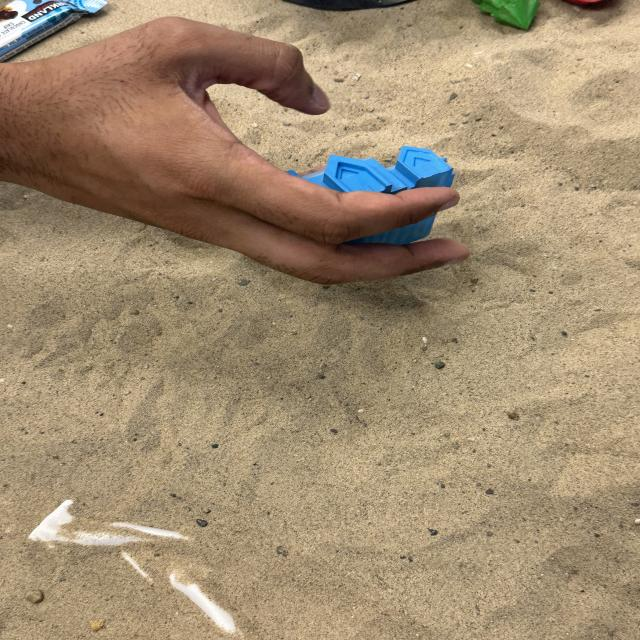house: (284, 144, 455, 246)
